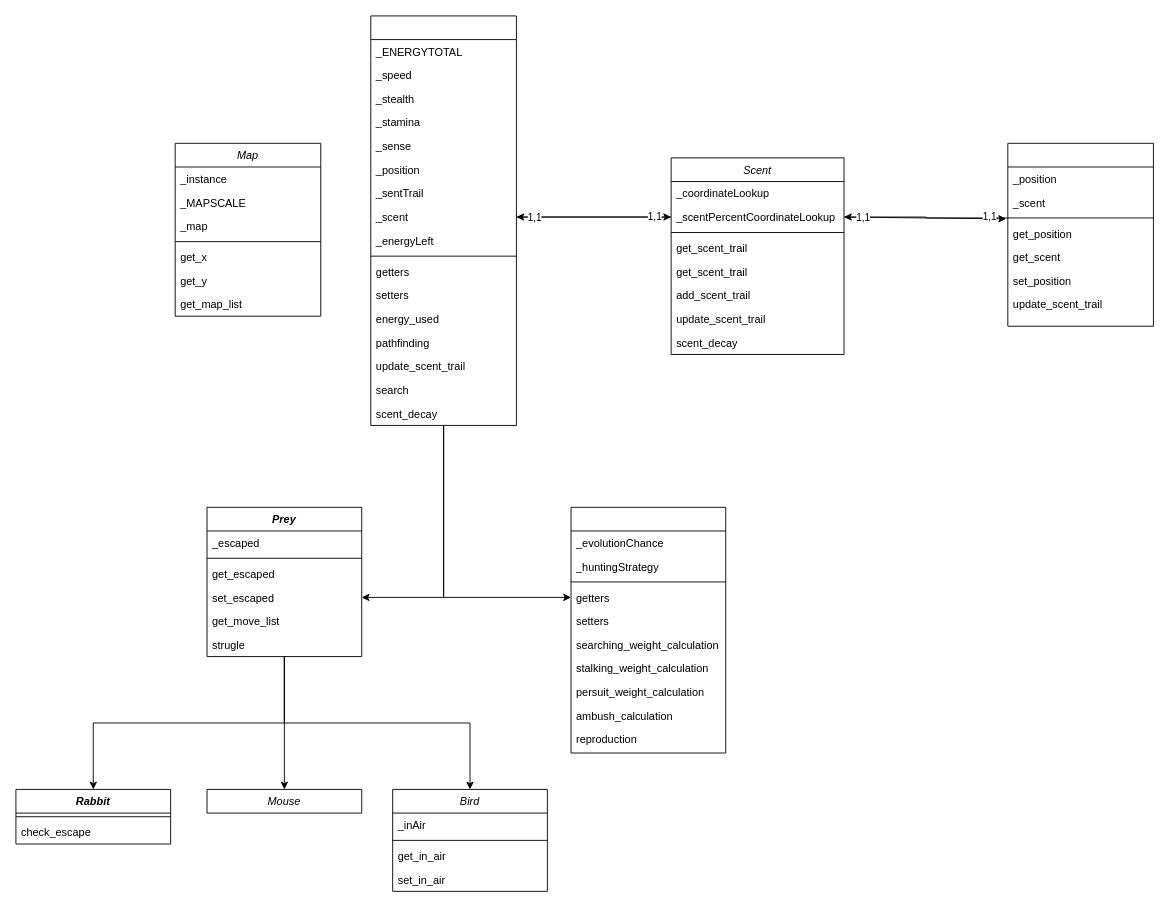
This 1169x910 diagram has some shape labels left out. Here are the shapes that lost their labels. From the top down, the box of each, then its label:
(370, 15, 516, 425): Animal
(1007, 142, 1153, 326): Plant
(570, 506, 726, 753): Predator
